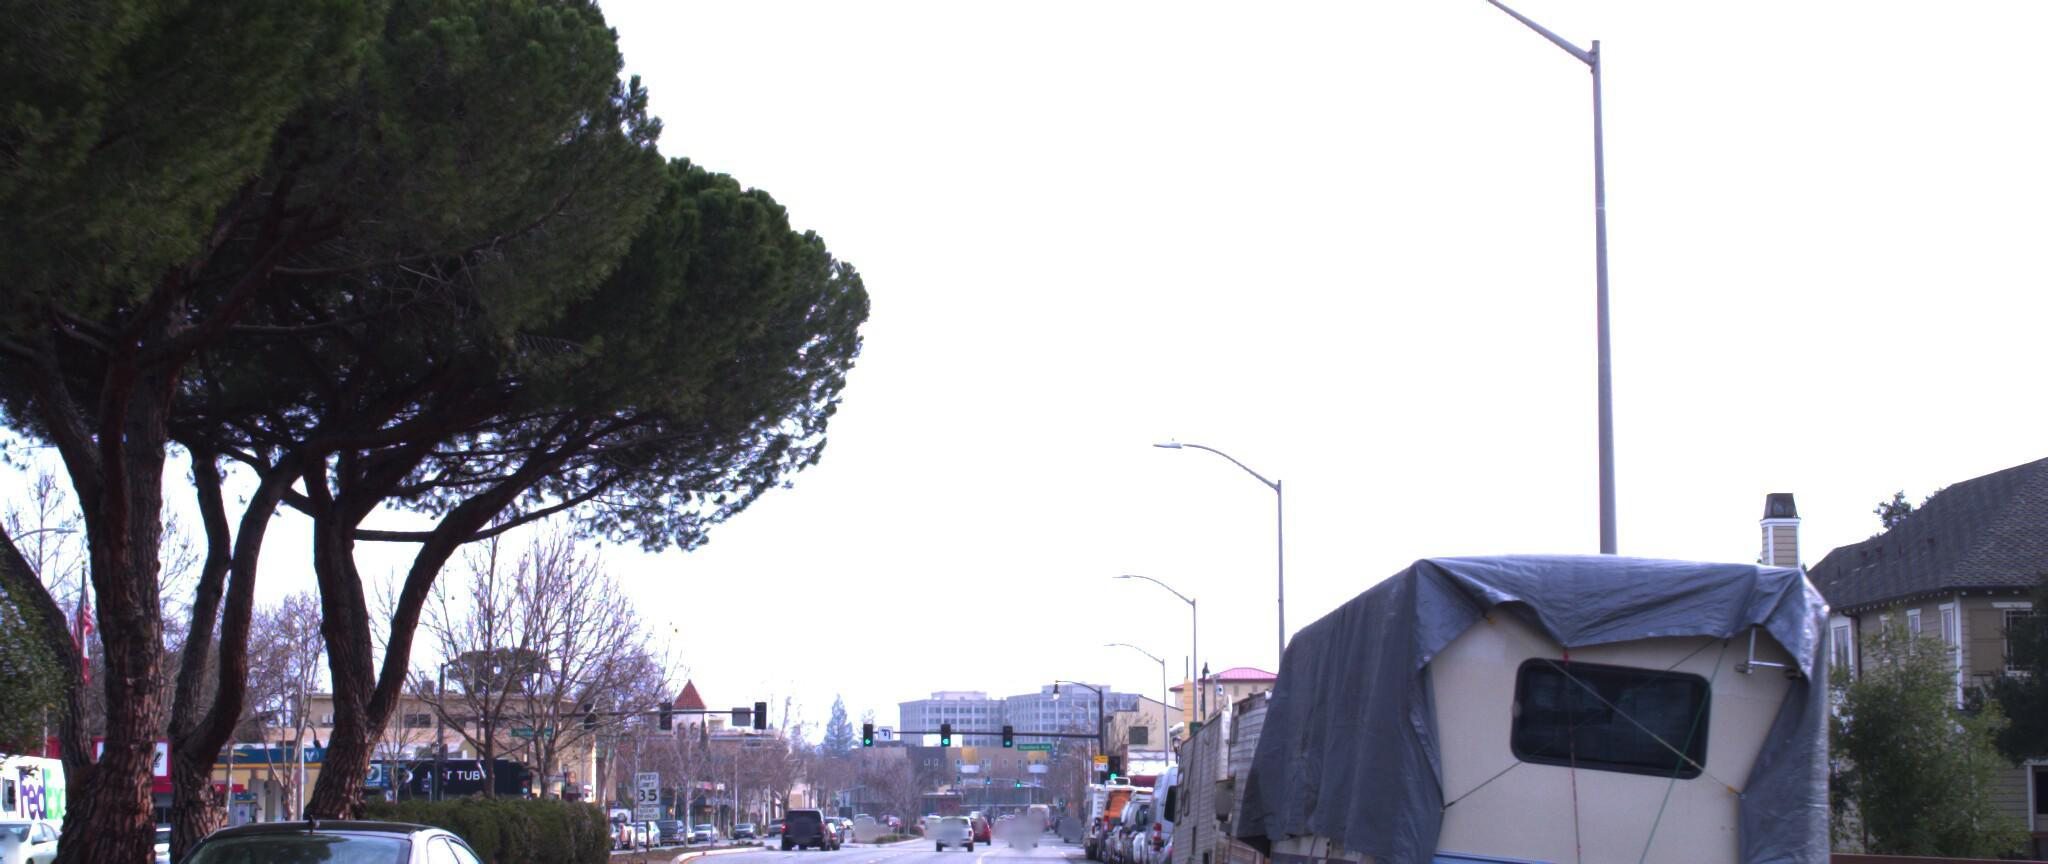car: (78, 791, 571, 864), (1138, 737, 1253, 864), (1531, 837, 2048, 864), (0, 794, 81, 860), (1817, 855, 2048, 864)
other_vehicle: (1240, 529, 1842, 864), (1212, 649, 1554, 864), (1166, 683, 1441, 864)
truck: (0, 726, 95, 864)
